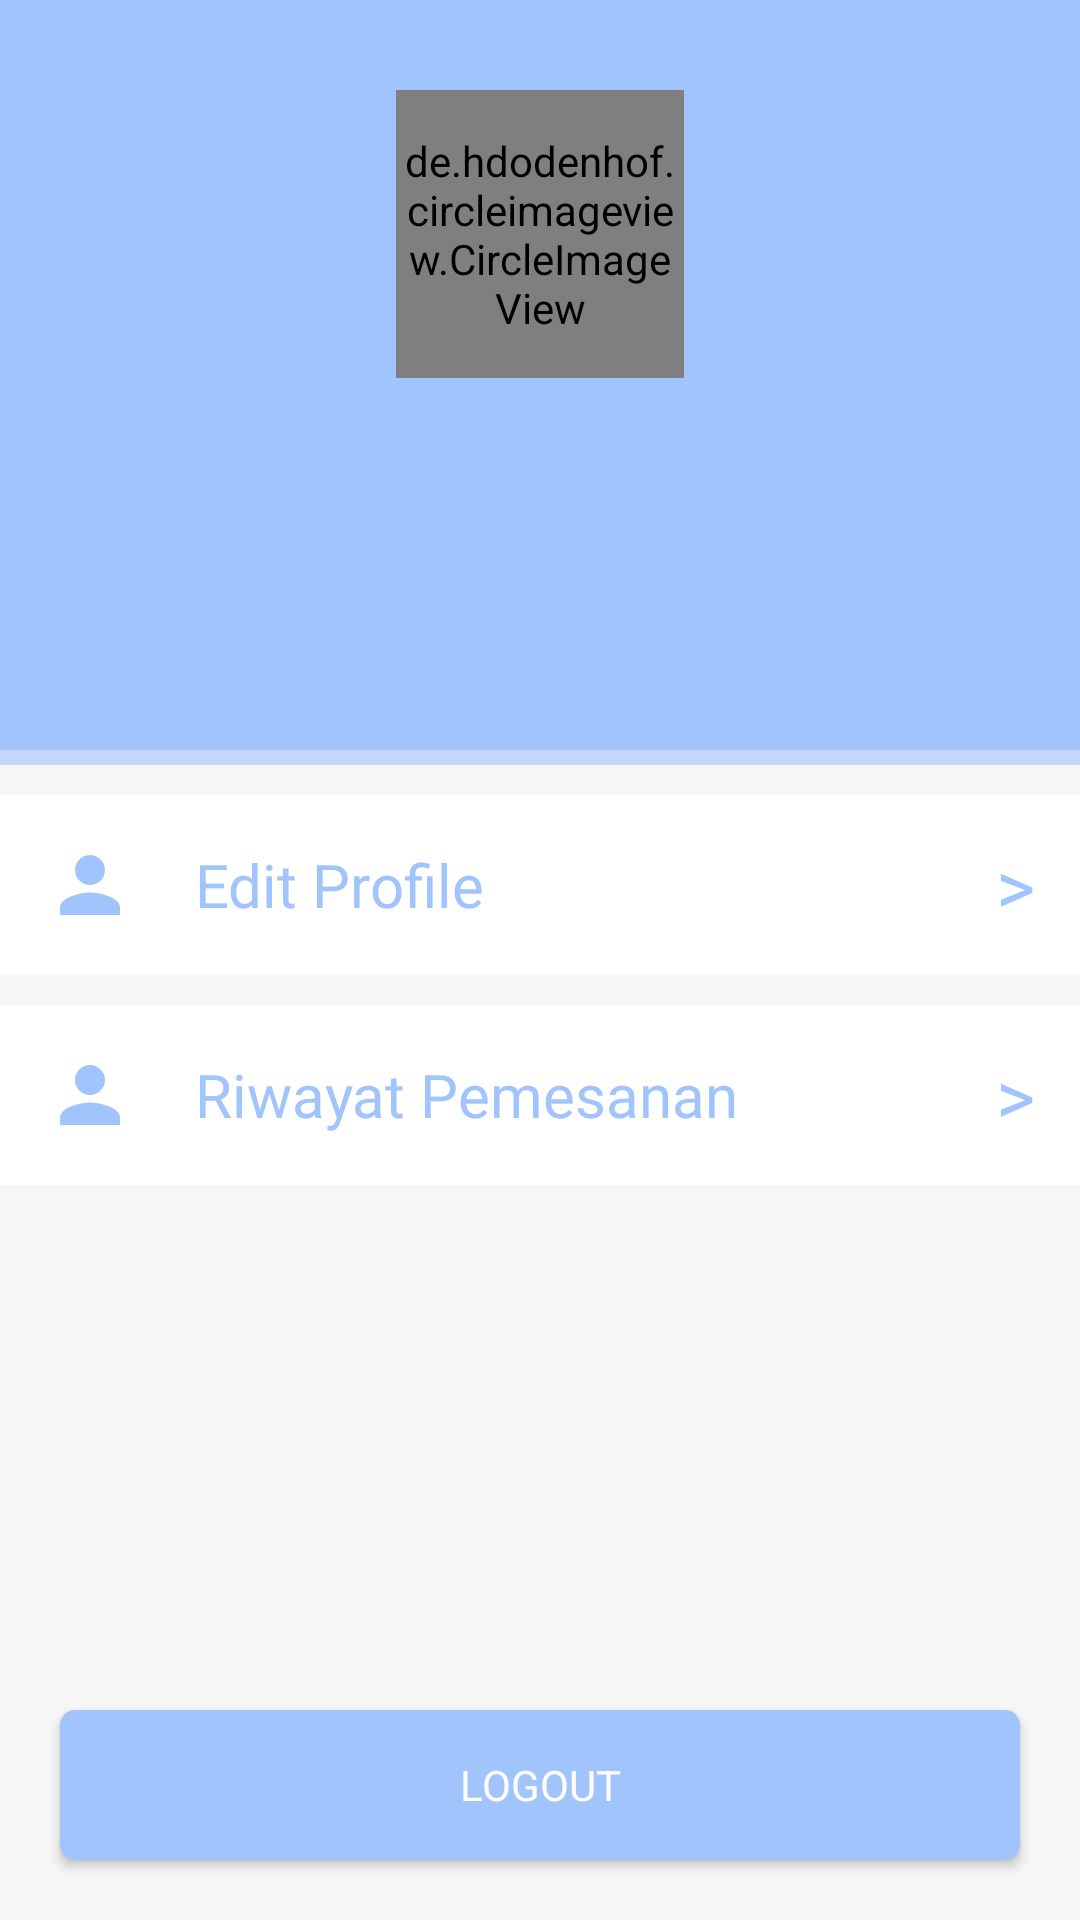

Icons on this 1080x1920 Android screen, each with the point to tap as (x=x, y=y):
person: (x=90, y=885), (x=90, y=1095)
